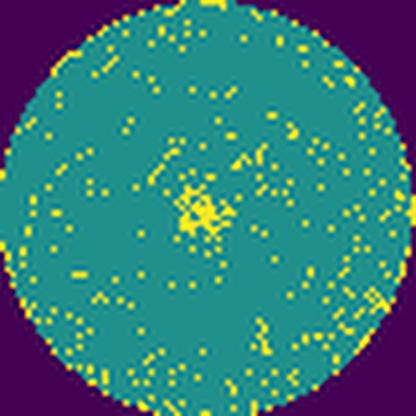Center: (178, 179, 236, 237)
